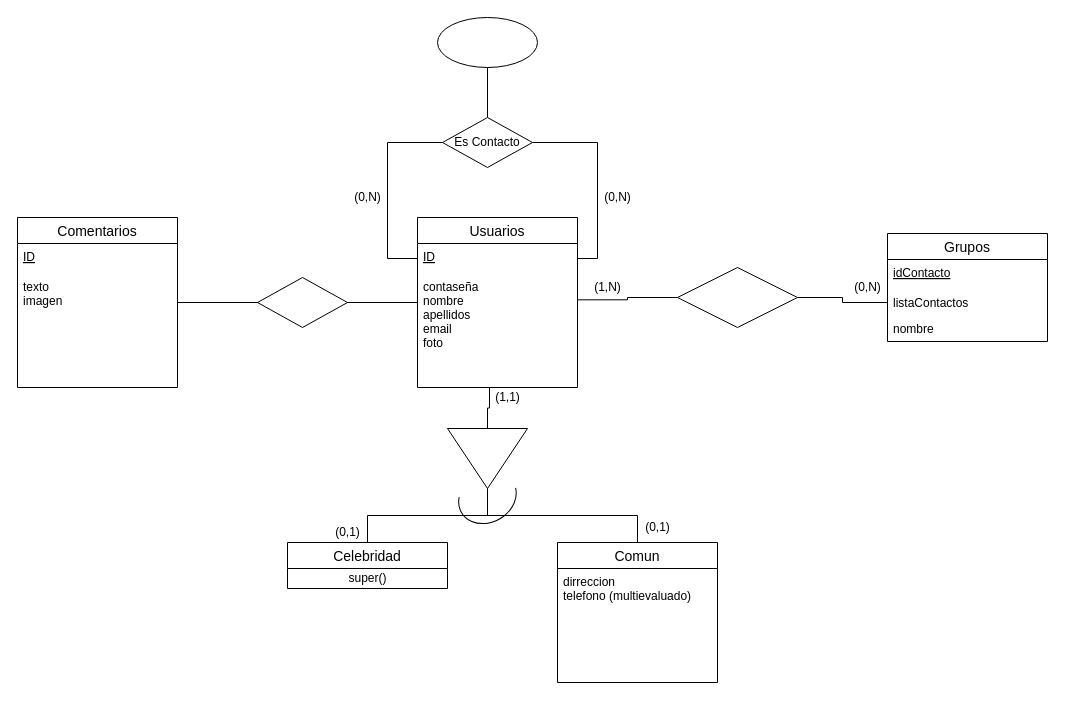
The diagram is 1065 pixels wide and 703 high, and some of its shapes have lost their labels. The shapes that lost their labels are listed below. From the top down, each one's centre as x and y in pixels, then its label:
At (x=487, y=42): "bloqueado".
At (x=302, y=302): "Publicar".
At (x=737, y=297): "Tienen".
